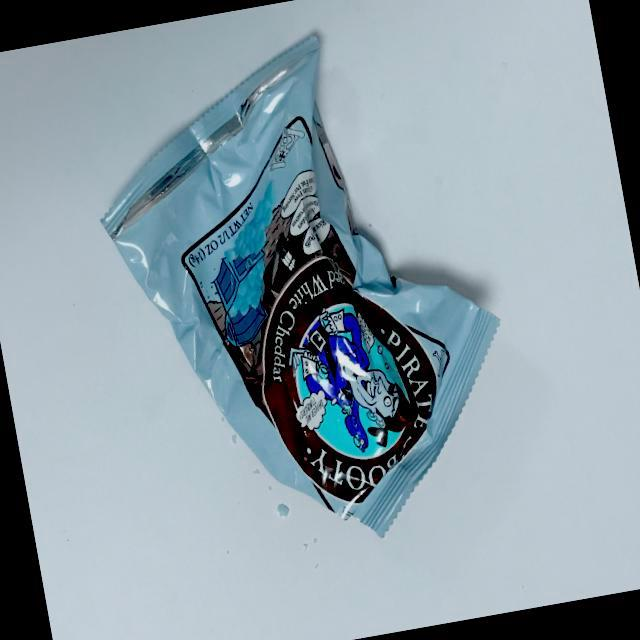plastic: (49, 0, 547, 600)
